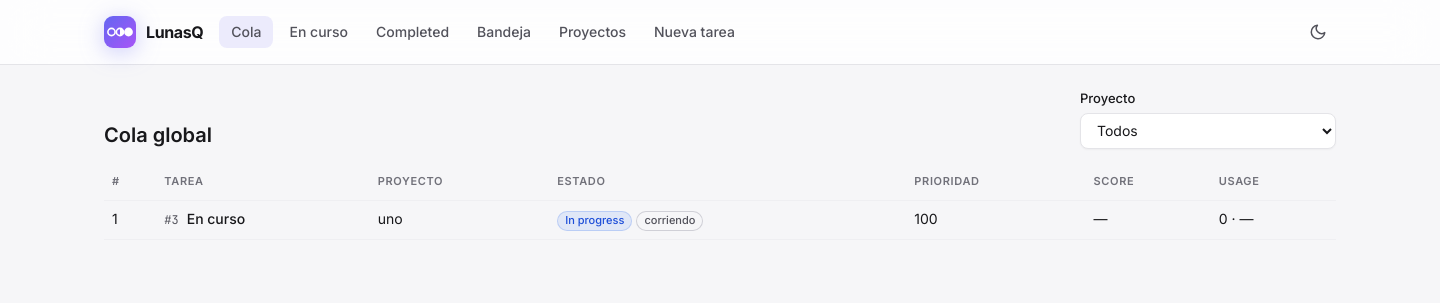
Test: pestaña Completed › enlaza desde la navegación y lista tareas completadas de todos los proyectos
Step 1. Click the link "Completed" → {"x": 413, "y": 32}, box [376,23,449,40]
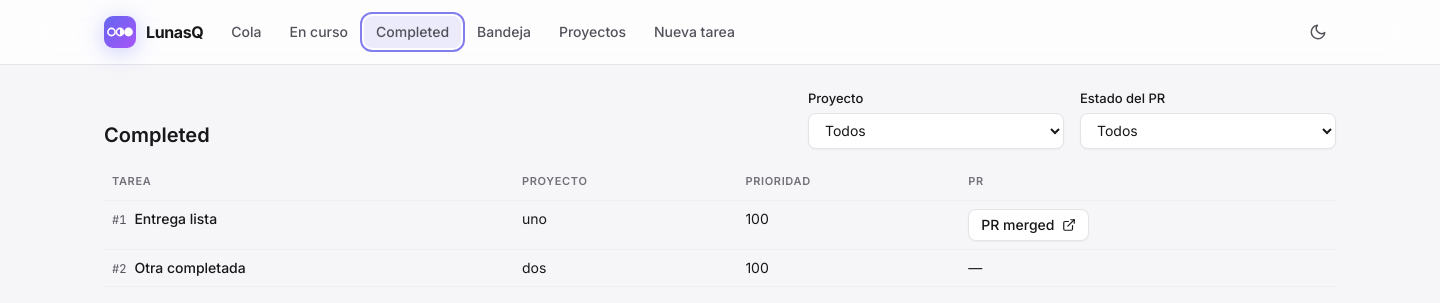
Expected: the text "uno" is shown, [514,200,737,250]
Expected: the heading "Completed" is shown, [104,120,210,148]
Expected: the text "dos" is shown, [514,250,737,286]
